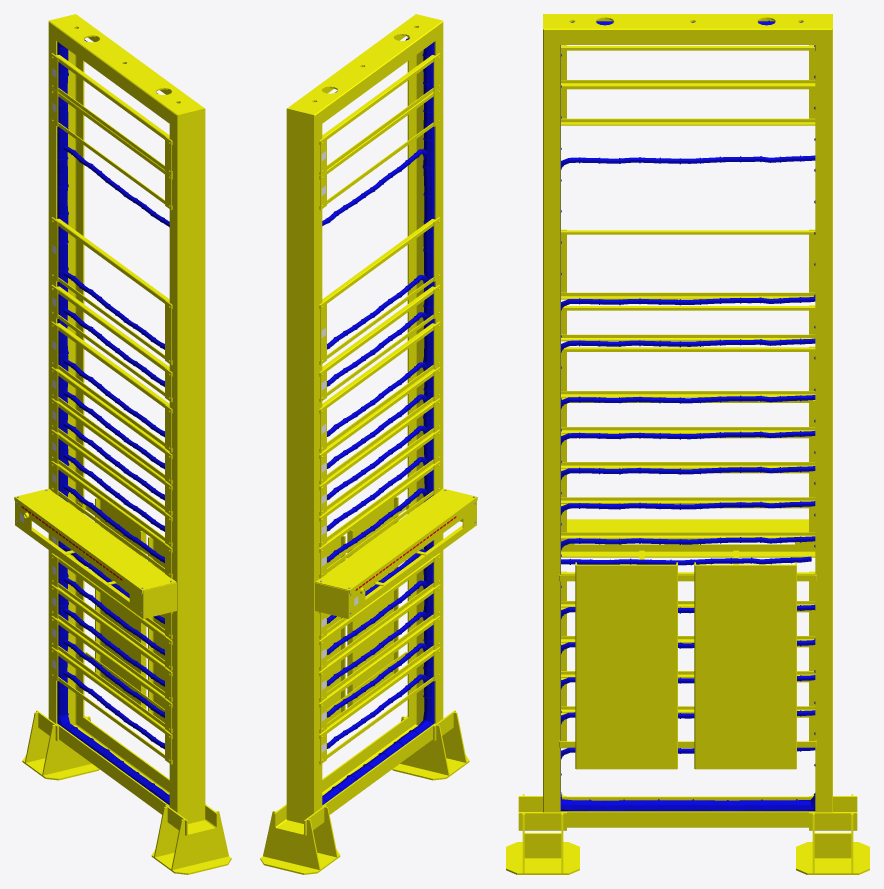
Rendered from SM_Dask_3.FBX.
3 views of the same model, side by side, from view 1: azimuth 30°, elevation 25°; view 2: azimuth 150°, elevation 25°; view 3: azimuth 270°, elevation 25° (orthographic). The views are drawn at different scales.
Visible parts, largest first — view 1: stoyka3; view 2: stoyka3; view 3: stoyka3.
Part boxes in pixels (x1,y1,x2,y2): stoyka3: (14,14,231,874); stoyka3: (260,14,477,874); stoyka3: (506,14,869,874).
Bounding box in the file's own units: 27.66 × 250 × 98.56.
